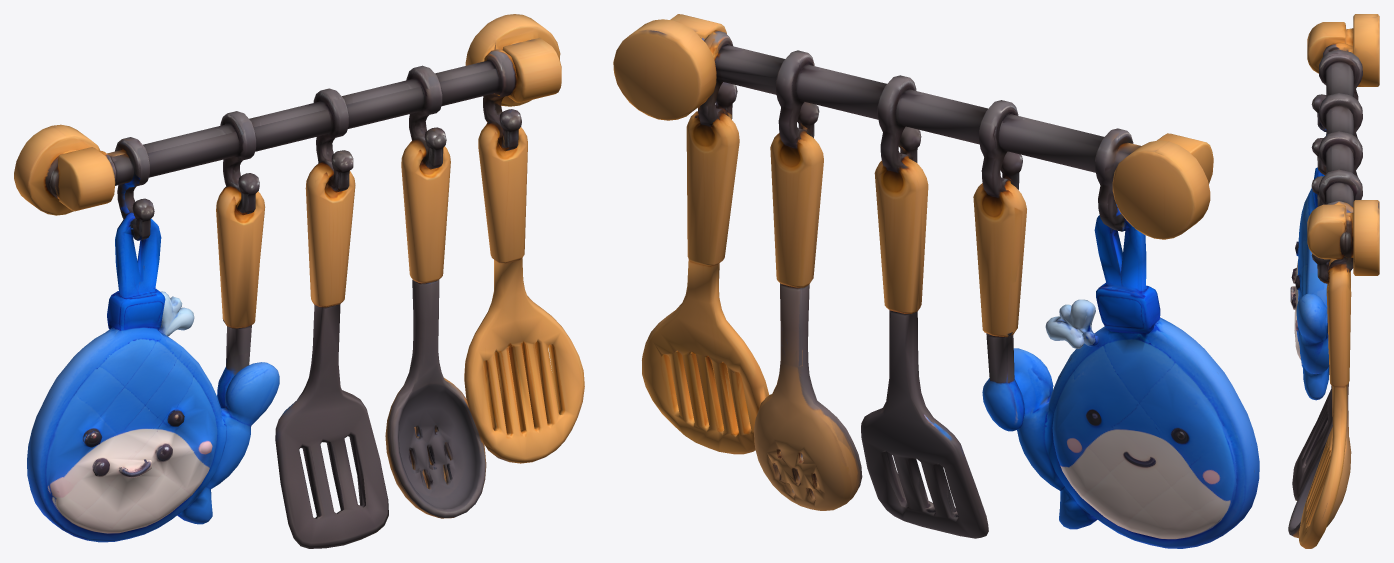
File: black-utensil-rail.glb
3 views of the same model, side by side, from view 1: azimuth 30°, elevation 25°; view 2: azimuth 150°, elevation 25°; view 3: azimuth 270°, elevation 25° (orthographic). The views are drawn at different scales.
Parts seen in each view (by area): view 1: black_utensil_rail_mesh; view 2: black_utensil_rail_mesh; view 3: black_utensil_rail_mesh.
Boxes of the visible parts, x1=… form: black_utensil_rail_mesh: x1=14, y1=14, x2=584, y2=548; black_utensil_rail_mesh: x1=613, y1=14, x2=1259, y2=548; black_utensil_rail_mesh: x1=1288, y1=14, x2=1379, y2=548.
Bounding box in the file's own units: 0.82 × 0.6251 × 0.1384.
1 material, 1 textured.
